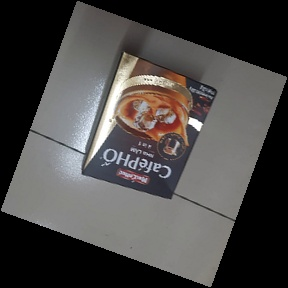CF pho: (82, 50, 218, 199)
